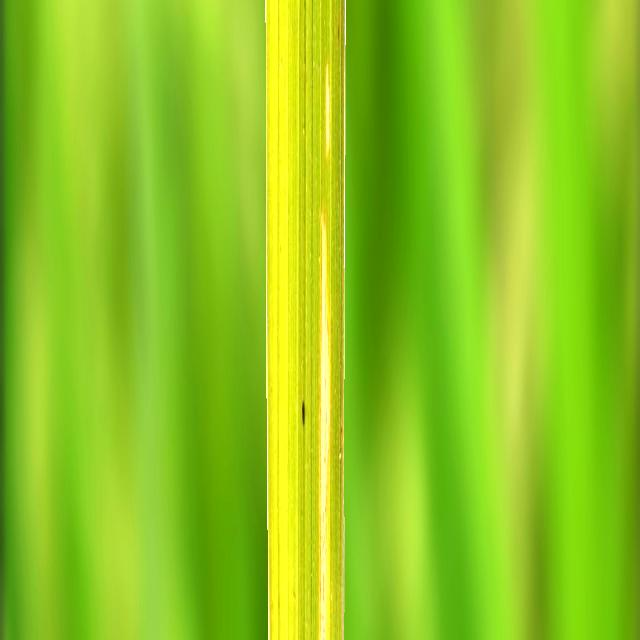BLS: (319, 216, 330, 640), (325, 62, 330, 155)
